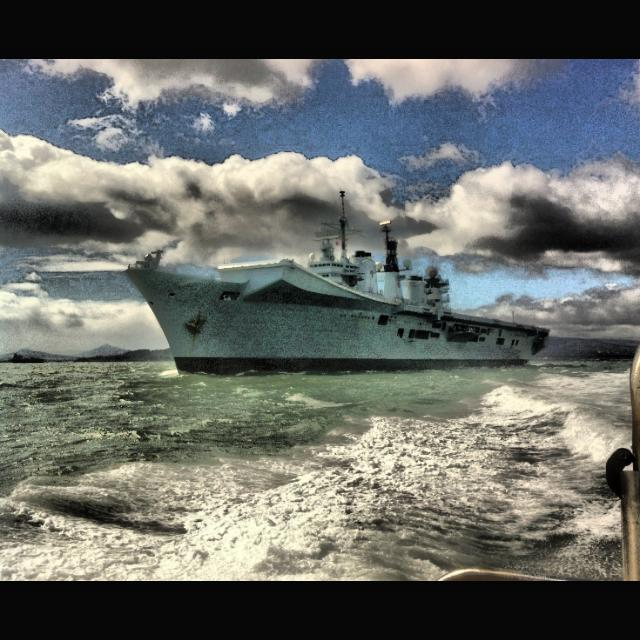combat_vessel: (123, 187, 552, 377)
